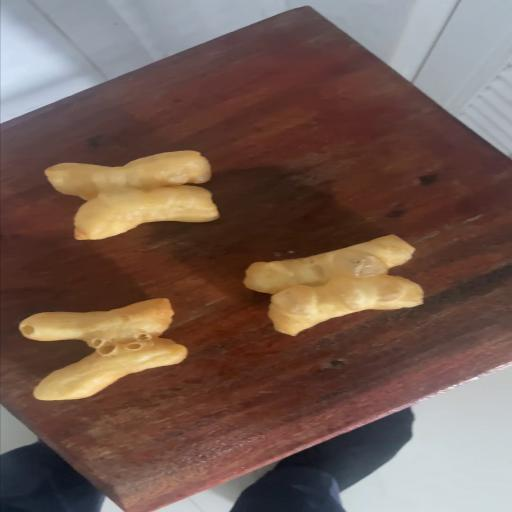street_golden_defect: (244, 235, 423, 336), (19, 298, 186, 400)
street_golden_good: (45, 151, 218, 240)
